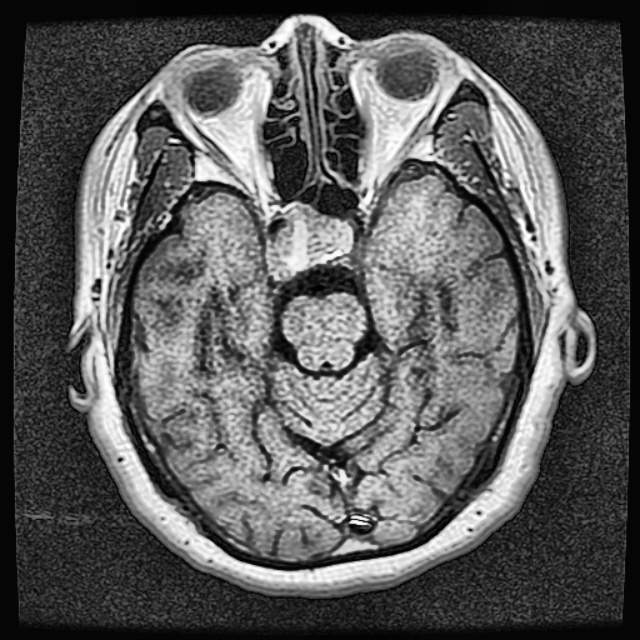Pituitary: (267, 204, 353, 282)
